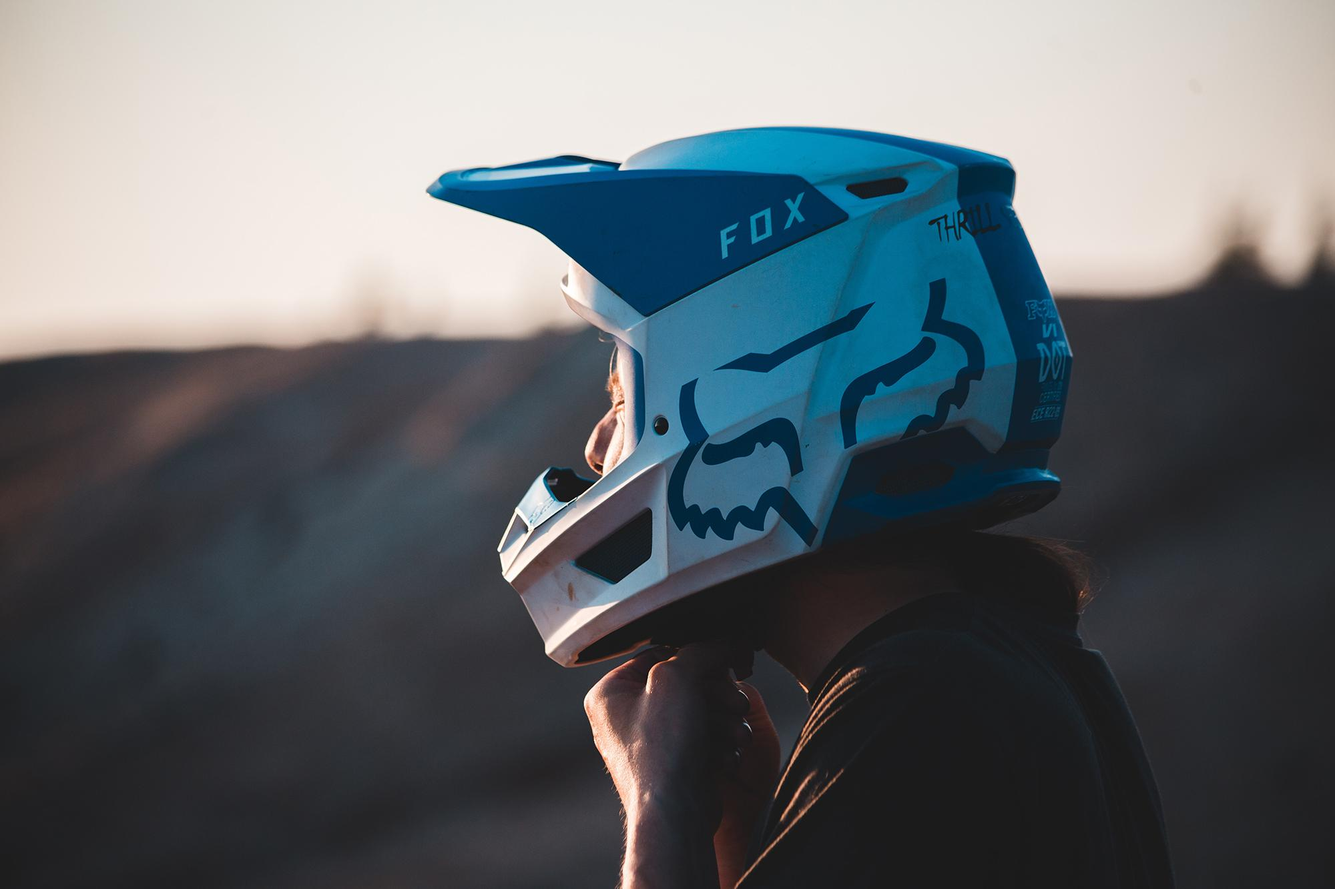helmet: (423, 122, 1076, 671)
